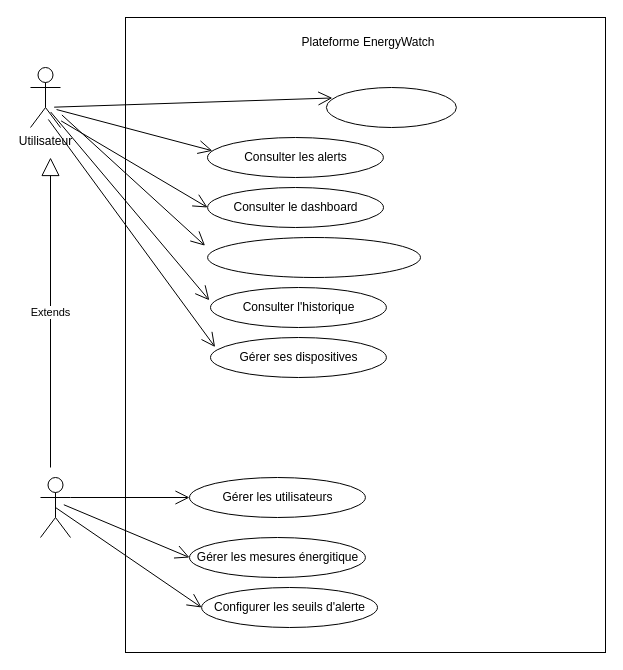
Image size: 623x670. Some labels were removed from this diagram. Each missing label, with the centre of its shape:
"Administrateur" goes at (x=55, y=507).
"Authentification" goes at (x=390, y=107).
"Consulter les mesures énergitiques" goes at (x=313, y=257).
